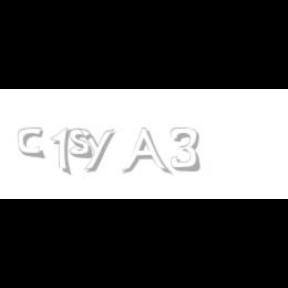1: (50, 128, 72, 176)
3: (171, 128, 202, 172)
A: (121, 128, 169, 176)
c: (17, 128, 46, 160)
s: (69, 128, 97, 160)
y: (79, 128, 119, 172)
